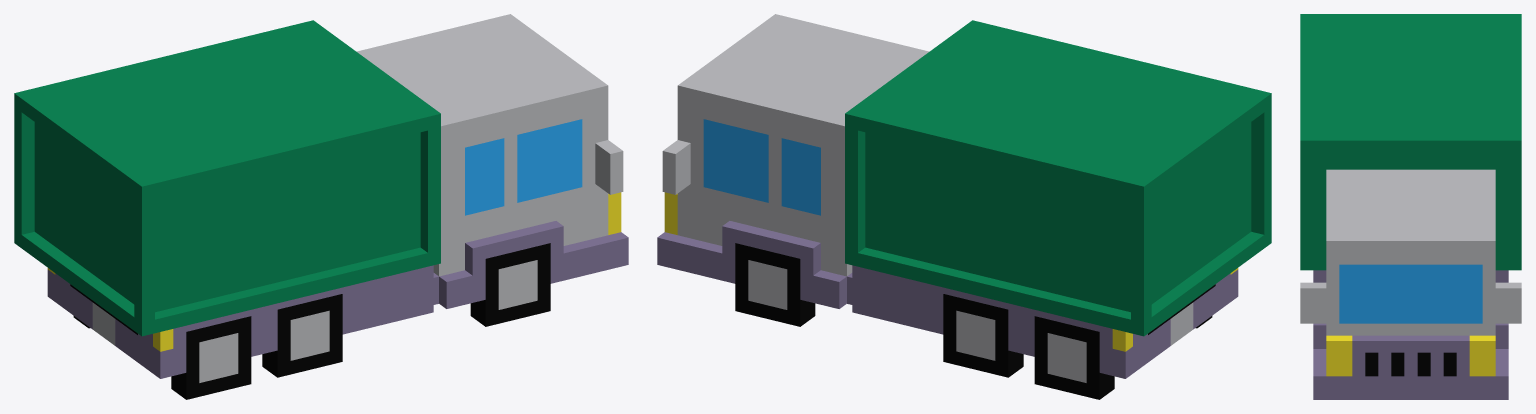
Rendered from truck_b_b.obj.
The picture shows the model from 3 angles, left to right: view 1: azimuth 30°, elevation 25°; view 2: azimuth 150°, elevation 25°; view 3: azimuth 270°, elevation 25°; orthographic projection. The views are drawn at different scales.
Bounding box in the file's own units: 3.8 × 1.7 × 1.7.
Materials: 1 (1 with a texture image).
